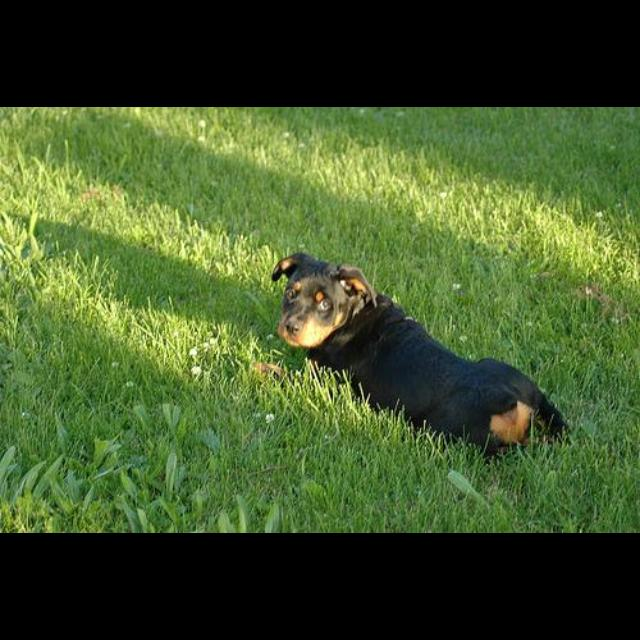rottweiler: (257, 252, 571, 461)
